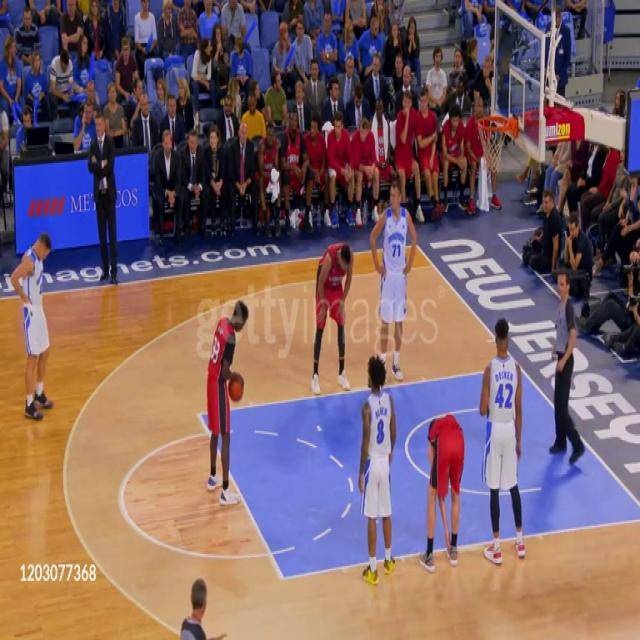ball: (228, 376, 244, 404)
